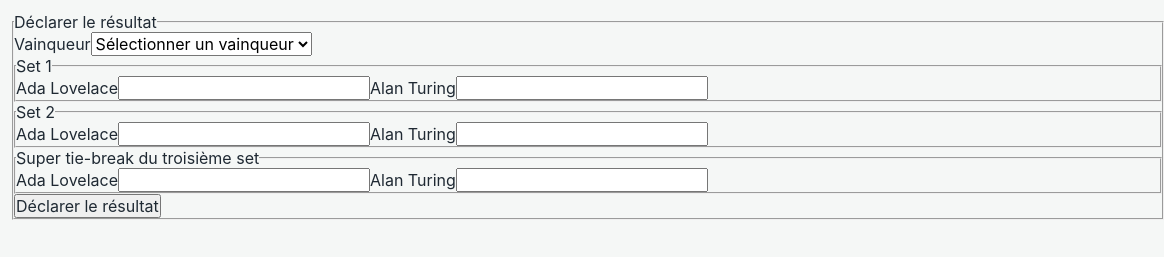
ScoreForm › requires both games for the optional third set
The width and height of the screenshot is (1164, 257).
Type "6" into the number field named "Ada Lovelace, set 1". click: (244, 88)
box: [118,76,370,100]
Type "4" into the number field named "Alan Turing, set 1". click: (582, 88)
box: [456,76,708,100]
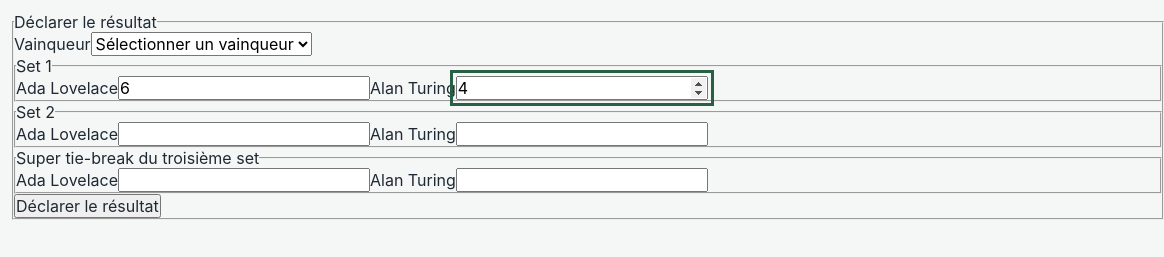
Type "4" into the number field named "Ada Lovelace, set 2". click: (244, 134)
box: [118,122,370,146]
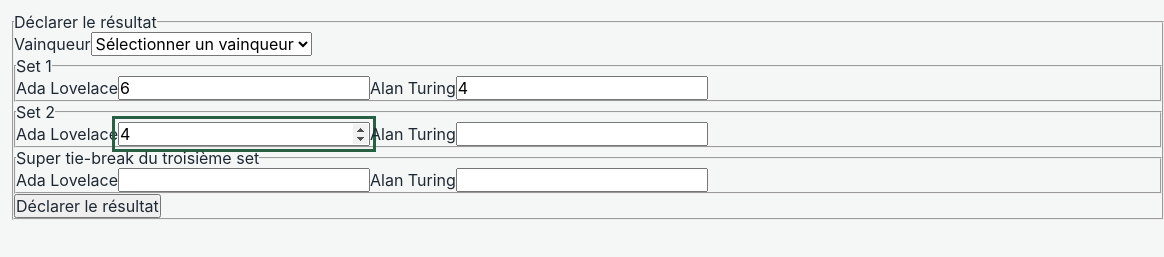
Type "6" into the number field named "Alan Turing, set 2". click: (582, 134)
box: [456,122,708,146]
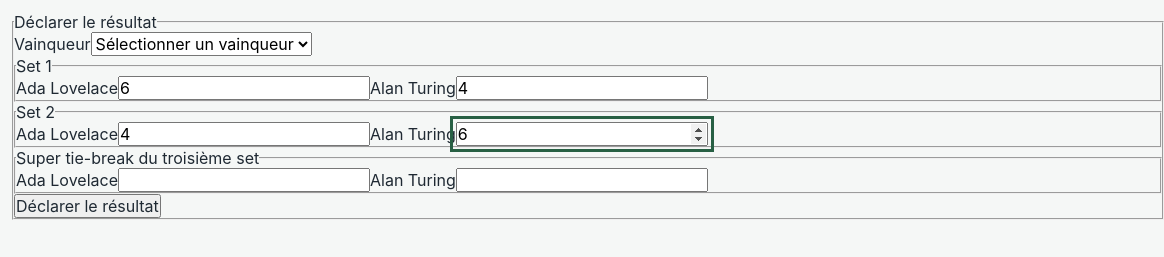
Type "10" into the number field named "Ada Lovelace, super tie-break". click: (244, 180)
box: [118,168,370,192]
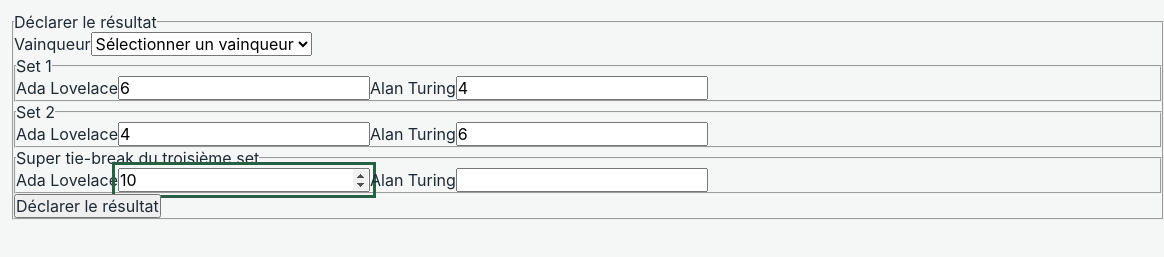
Select "Ada Lovelace" in the dropdown labelled "Vainqueur". click: (201, 44)
box: [91,32,312,56]
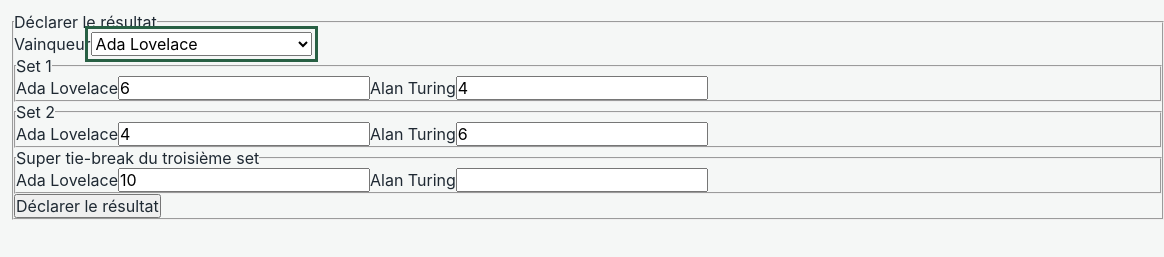
Click the button "Déclarer le résultat". click: (87, 206)
box: [14,194,161,218]
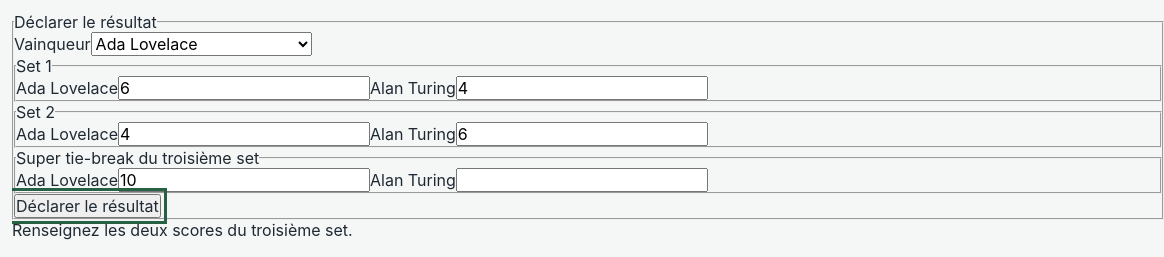
Check: the message reads "Renseignez les deux scores du troisième set.", box [12,220,353,240]
